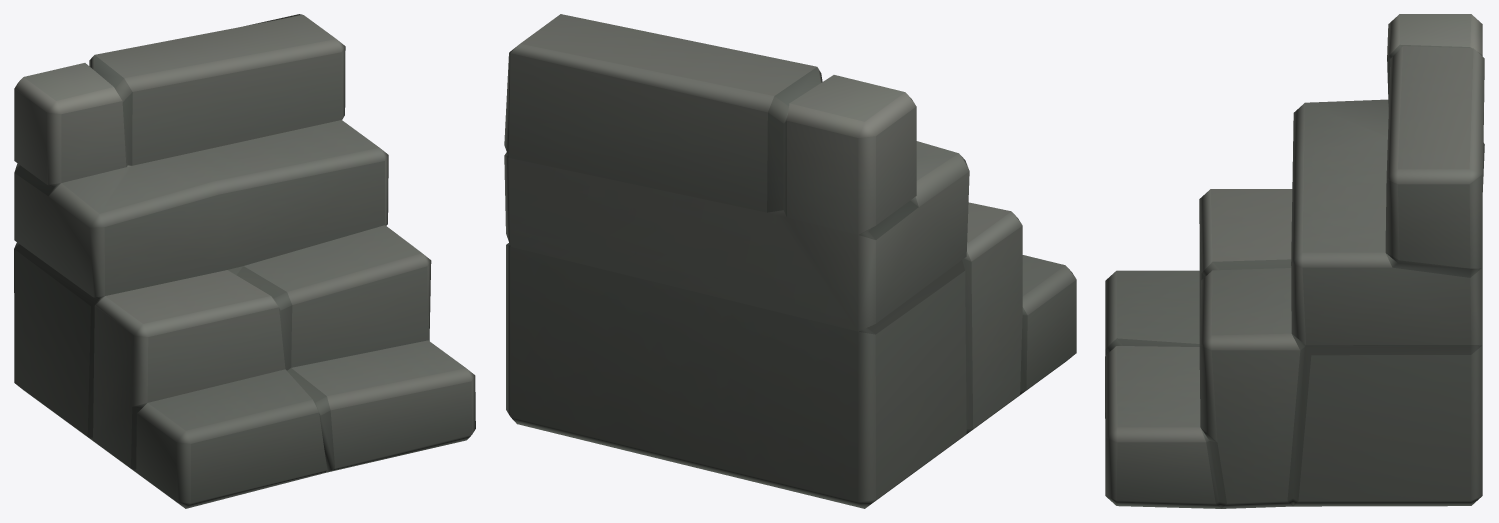
File: stairs_shade_3.fbx
3 renders of one model, left to right at view 1: azimuth 30°, elevation 25°; view 2: azimuth 150°, elevation 25°; view 3: azimuth 270°, elevation 25°, orthographic. The views are drawn at different scales.
Parts seen in each view (by area): view 1: stairs_shade_3; view 2: stairs_shade_3; view 3: stairs_shade_3.
Boxes of the visible parts, <box> form: stairs_shade_3: <box>14,14,475,508</box>; stairs_shade_3: <box>504,14,1076,508</box>; stairs_shade_3: <box>1105,14,1484,508</box>.
Size of the model in its own units: 101 by 102 by 101.
